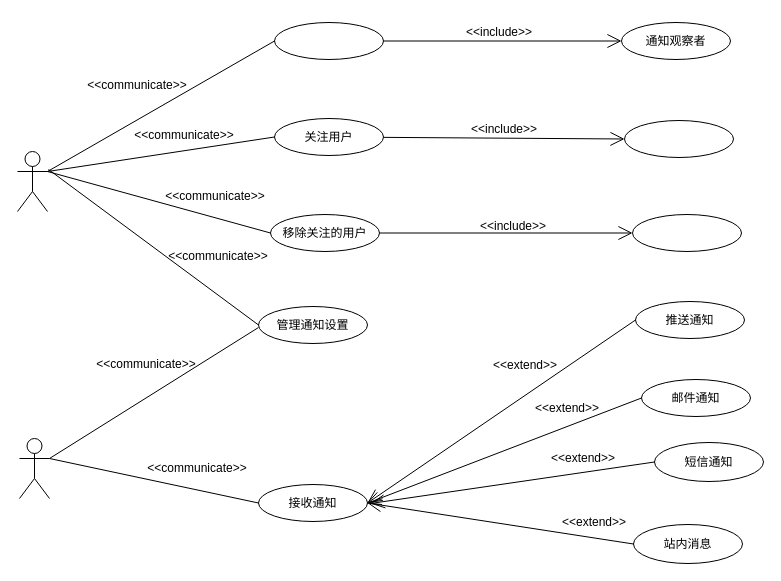
This 781x581 diagram has some shape labels left out. The shapes that lost their labels are listed below. From the top down, each one's centre as x and y in pixels, then its label:
the point at 329,41: 发布动态
the point at 679,139: 添加观察者
the point at 32,181: 用户
the point at 687,233: 移除观察者
the point at 34,468: 粉丝
